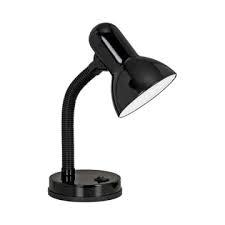Lamp: (46, 18, 179, 206)
